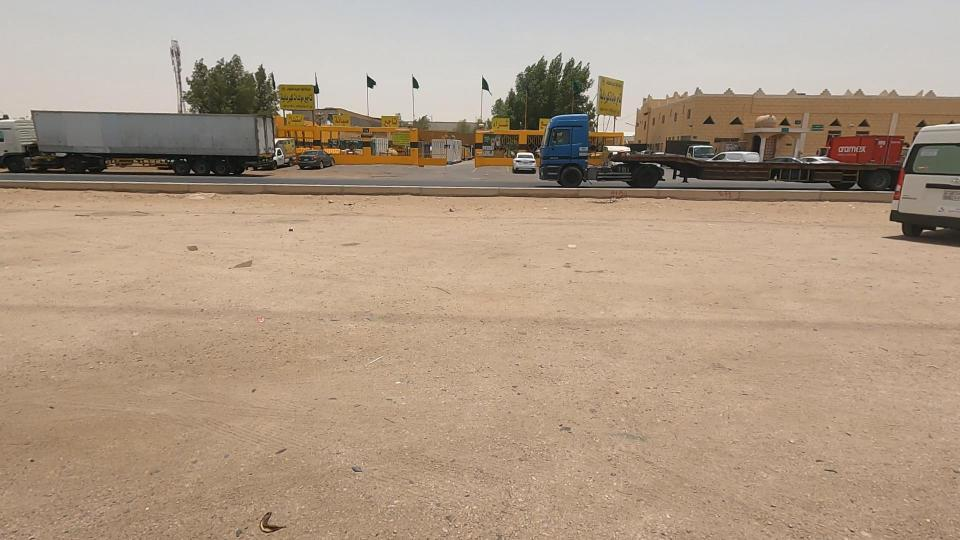CONSTRUCTION_ROAD: (288, 65, 960, 540), (0, 63, 634, 540)
